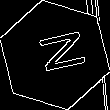N_W: (25, 30, 85, 80)
